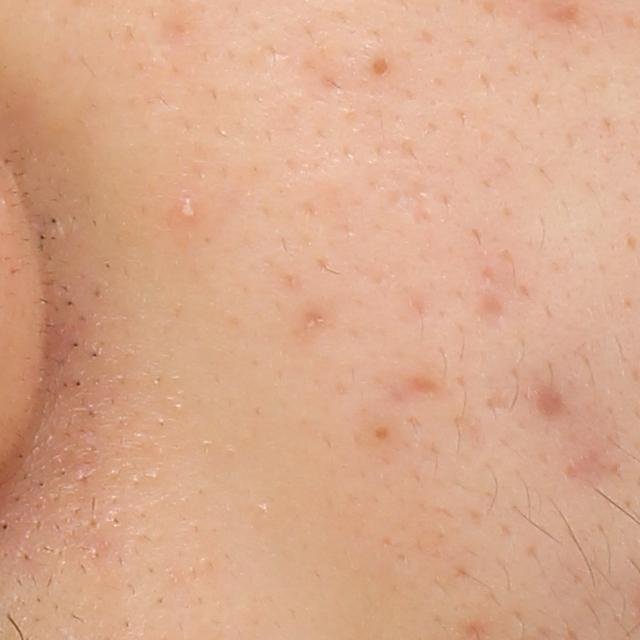atrophic_scar: (377, 374, 443, 424), (563, 448, 621, 483), (476, 294, 509, 332)
pustule: (164, 190, 208, 224)
